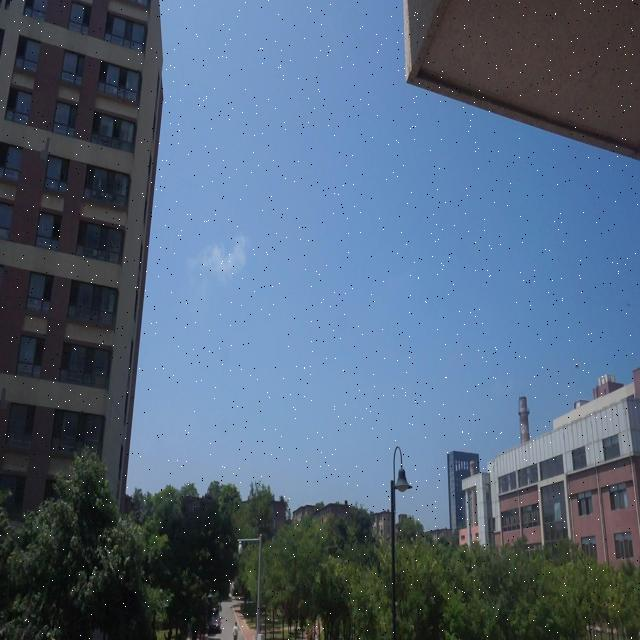UAV: (574, 363, 580, 369)
